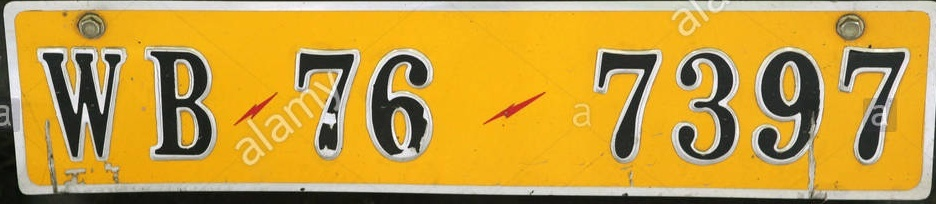character: (38, 46, 126, 159), (839, 42, 910, 166), (753, 45, 825, 162), (668, 48, 739, 162), (144, 45, 214, 158), (594, 46, 660, 164), (365, 44, 431, 161), (294, 46, 359, 158)
